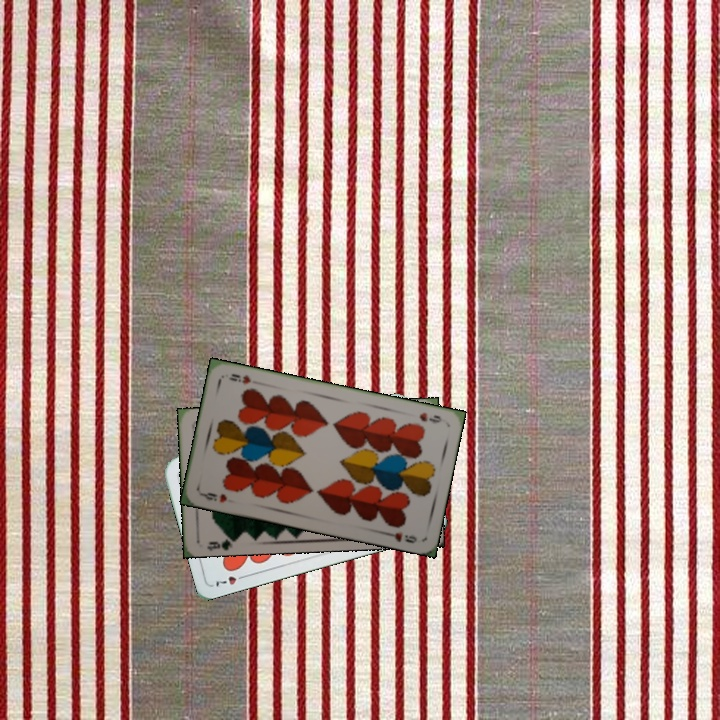G9: (203, 531, 239, 552)
H7: (210, 571, 250, 589)
H9: (197, 488, 229, 505), (415, 408, 444, 426)
